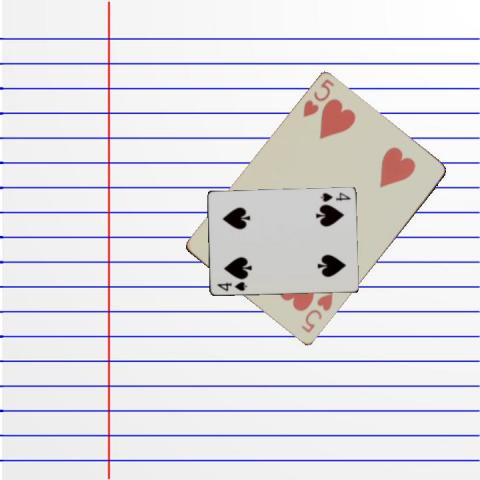4s: (214, 279, 248, 292), (317, 190, 351, 203)
5h: (298, 290, 335, 335), (299, 76, 336, 119)
